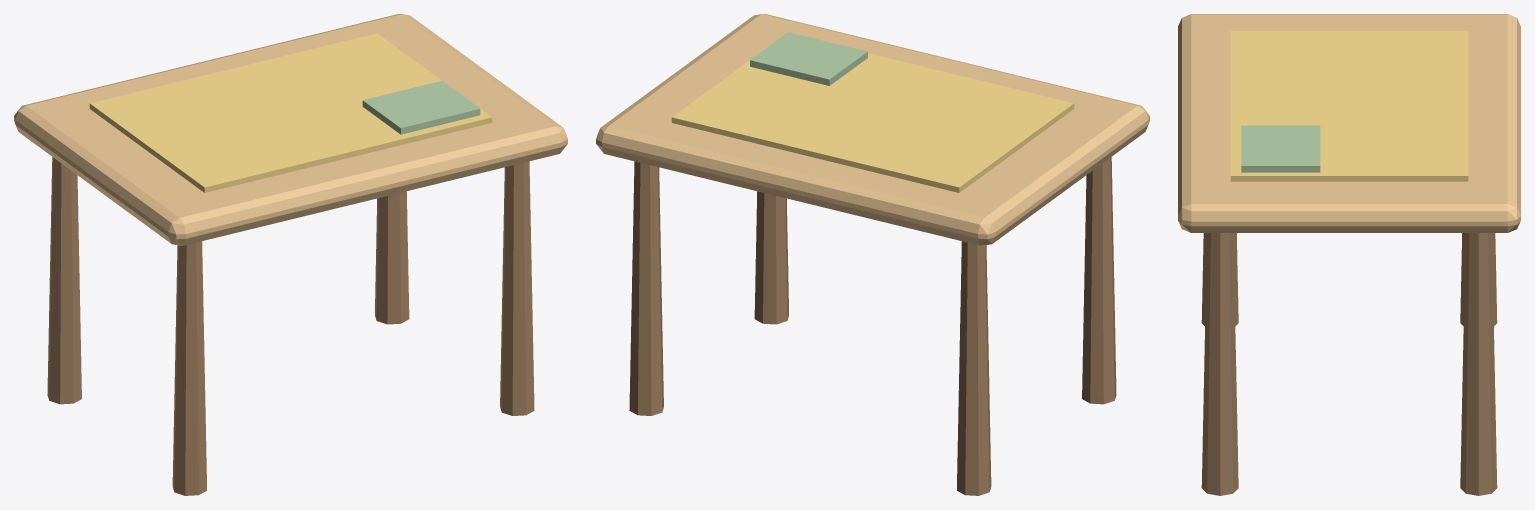
File: cozy-home-interiors-puzzle-table-0d845542.glb
The picture shows the model from 3 angles, left to right: view 1: azimuth 30°, elevation 25°; view 2: azimuth 150°, elevation 25°; view 3: azimuth 270°, elevation 25°; orthographic projection. The views are drawn at different scales.
Visible parts, largest first — view 1: puzzle-table; view 2: puzzle-table; view 3: puzzle-table.
Part boxes in pixels (box(x1,y1,x2,y2)): puzzle-table: box(14, 14, 567, 495); puzzle-table: box(596, 14, 1149, 495); puzzle-table: box(1178, 14, 1520, 495).
Size of the model in its own units: 0.9 by 0.646 by 0.65.
